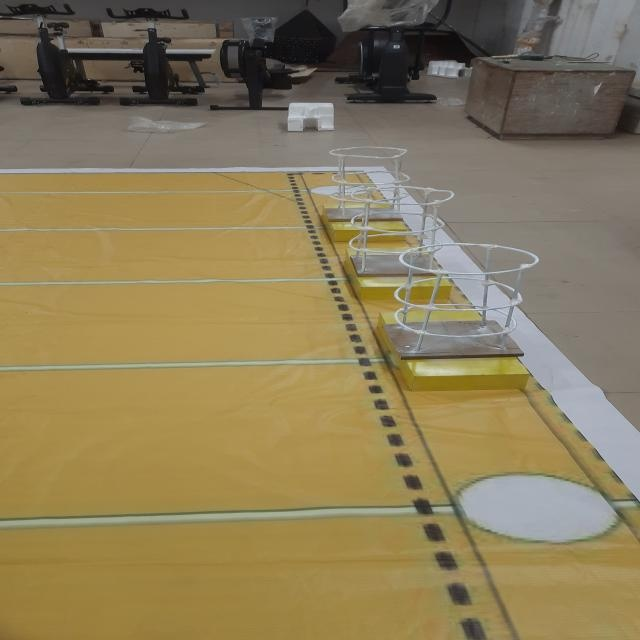silo: (388, 237, 542, 366), (346, 180, 463, 282), (322, 142, 411, 230)
